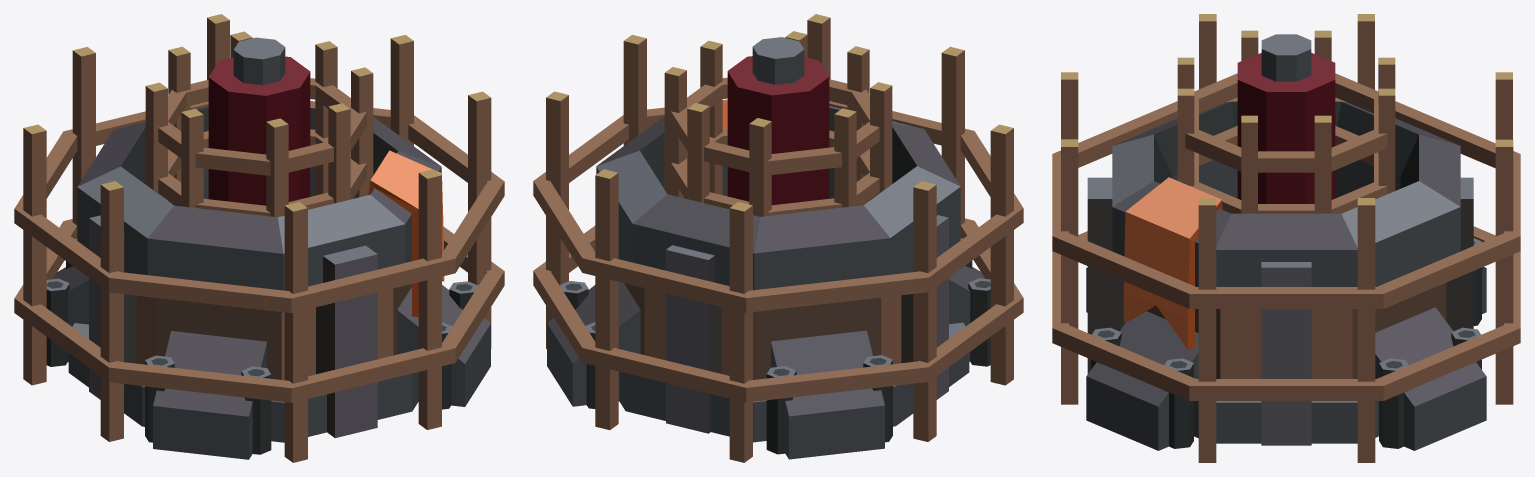
File: mortar_lvl2_construction.fbx
3 views of the same model, side by side, from view 1: azimuth 30°, elevation 25°; view 2: azimuth 150°, elevation 25°; view 3: azimuth 270°, elevation 25° (orthographic). The views are drawn at different scales.
Visible parts, largest first — view 1: TB_CanonTower_Lvl2_Cons; view 2: TB_CanonTower_Lvl2_Cons; view 3: TB_CanonTower_Lvl2_Cons.
Boxes of the visible parts, box(x1,y1,x2,y2) form: TB_CanonTower_Lvl2_Cons: box(14, 14, 504, 462); TB_CanonTower_Lvl2_Cons: box(533, 14, 1023, 462); TB_CanonTower_Lvl2_Cons: box(1052, 14, 1520, 462).
Size of the model in its own units: 8.55 by 6.51 by 8.55.
